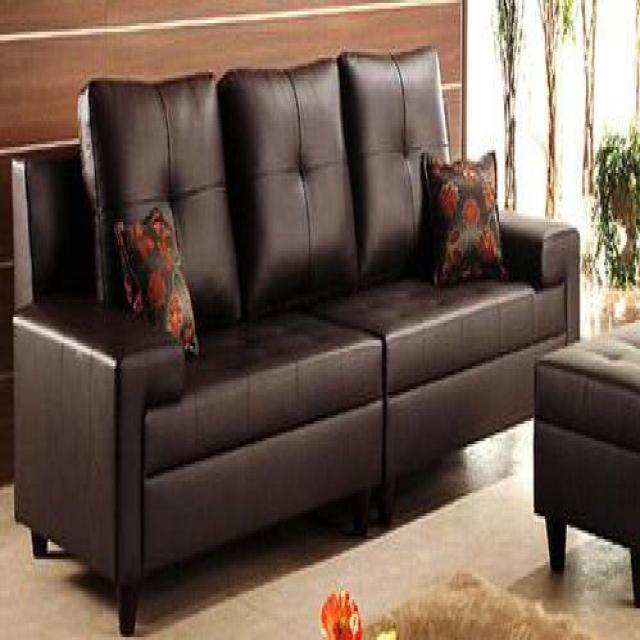sofa: (11, 48, 580, 639)
